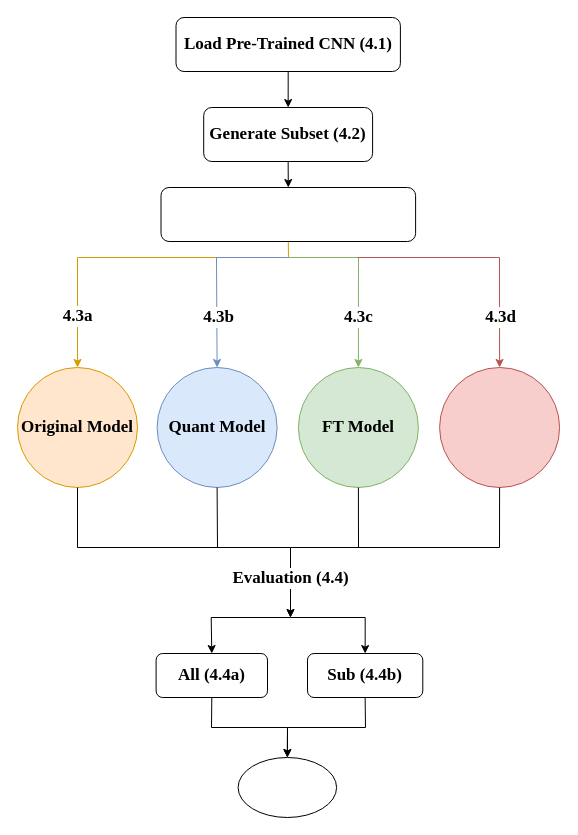
Some shapes in this 578 by 835 pixel diagram are drawn without their labels. Here are the shapes that lost their labels. From the top down, the centre of each, then its label:
At point (288, 214): "Generate Model Variations (4.3)".
At point (499, 427): "FT + Quant Model".
At point (287, 787): "Results".
